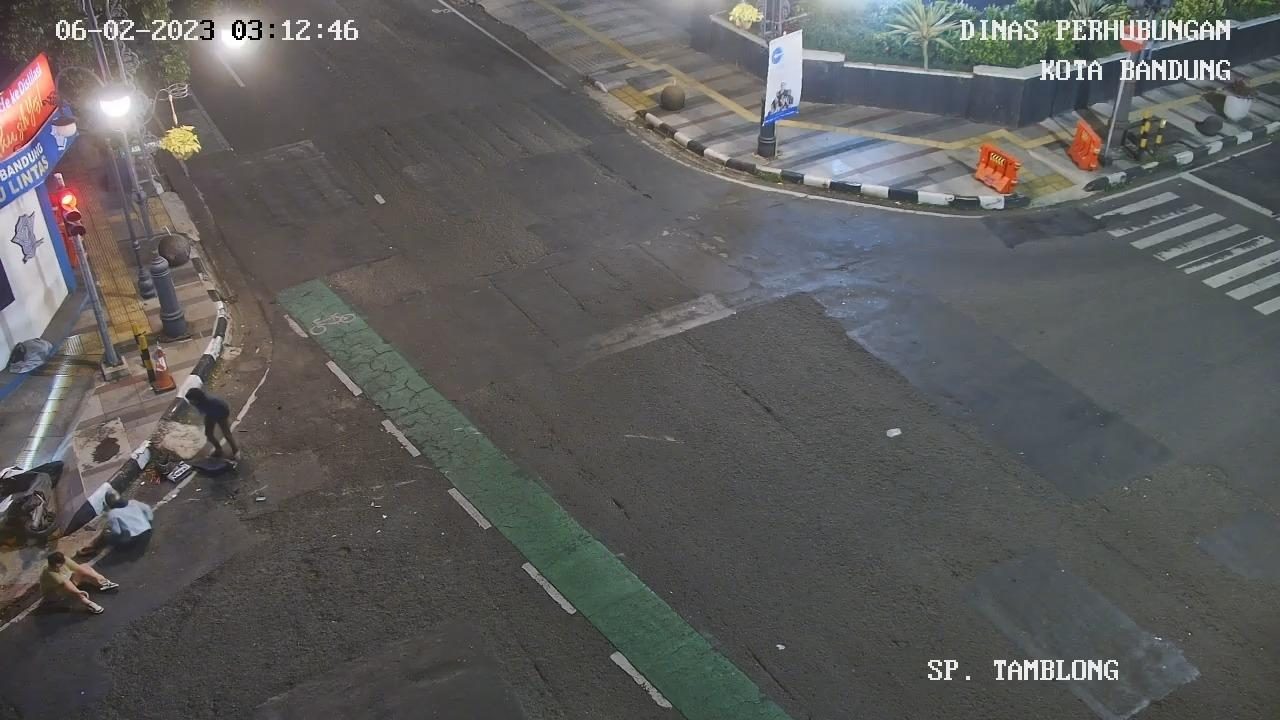accident: (79, 488, 167, 557), (39, 551, 120, 615)
